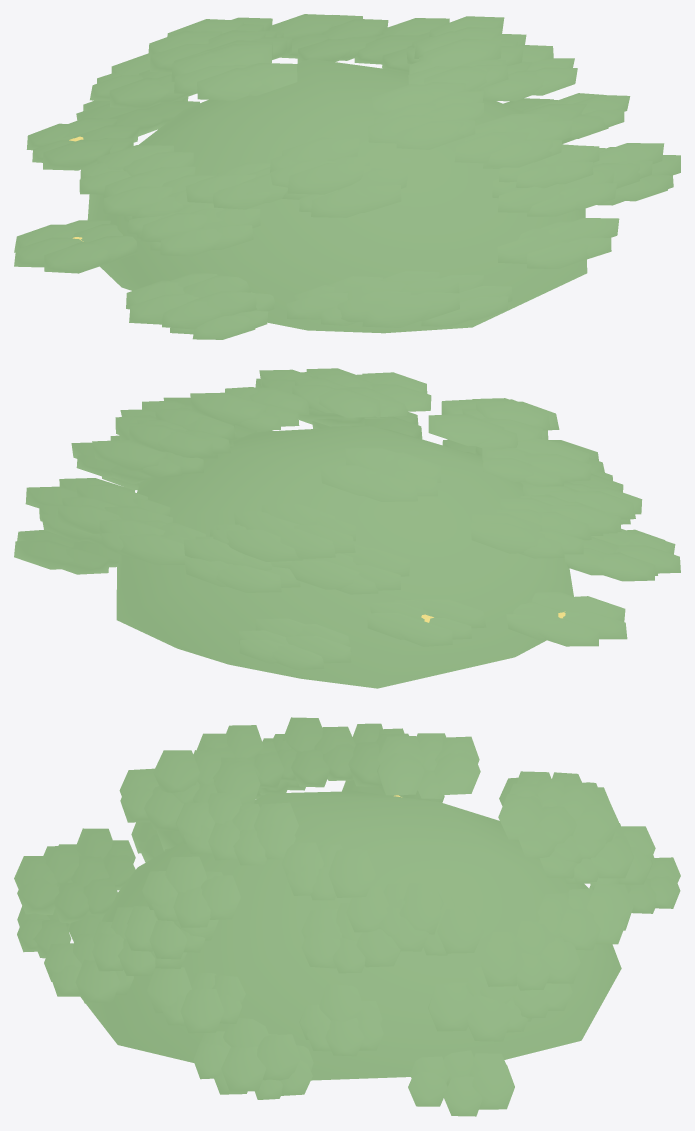
The model's file is Blender_Naupaka_1.glb.
3 renders of one model, top to bottom at view 1: azimuth 30°, elevation 25°; view 2: azimuth 150°, elevation 25°; view 3: azimuth 270°, elevation 25°, orthographic. The views are drawn at different scales.
Parts seen in each view (by area): view 1: Blender_Naupaka_1; view 2: Blender_Naupaka_1; view 3: Blender_Naupaka_1.
Boxes of the visible parts, x1,y1,x2,y2 form: Blender_Naupaka_1: [14, 14, 680, 339]; Blender_Naupaka_1: [14, 368, 680, 688]; Blender_Naupaka_1: [14, 717, 680, 1116].
Size of the model in its own units: 3.27 by 0.9089 by 2.85.
